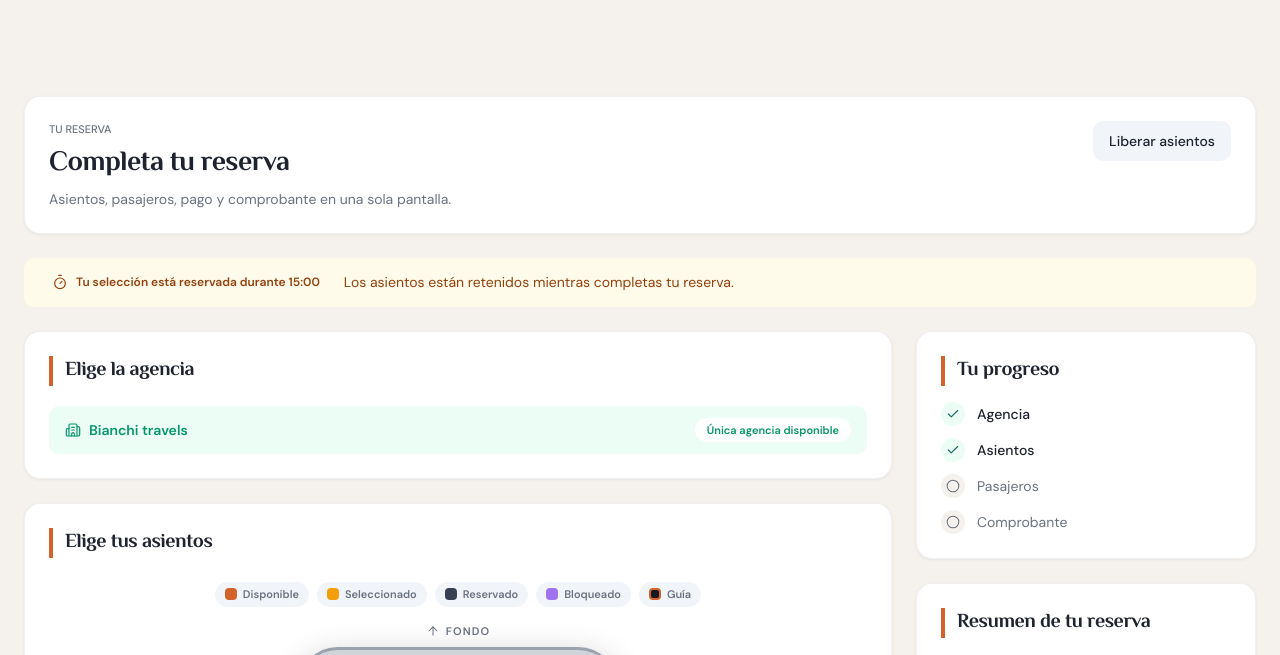
Test: Wizard de reserva (MKT-004) › libera la selección completa al pulsar Liberar asientos y se queda en el checkout
The width and height of the screenshot is (1280, 655).
What coordinates should you click on to do the following:
click the button "Liberar asientos"
I would click on:
 (1162, 141)
Its box is [1093,121,1231,161].
(page scrolled)
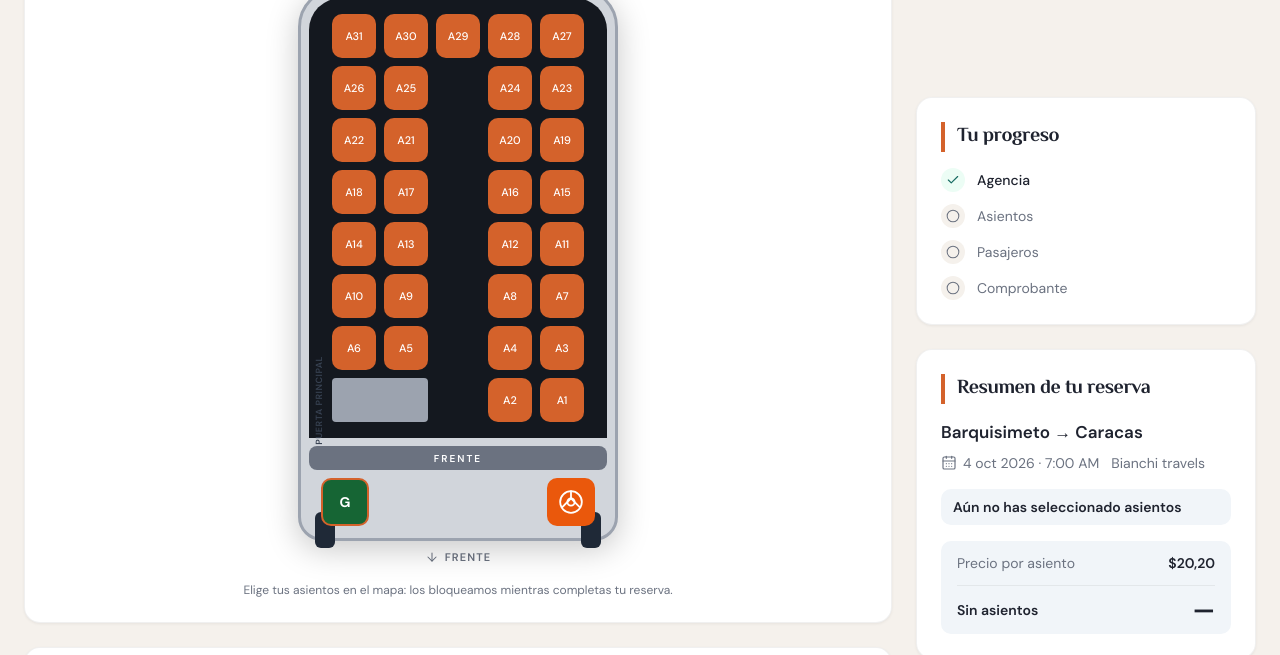
Check: the button named "Asiento A1, disponible" is shown, box [540,378,584,422]
